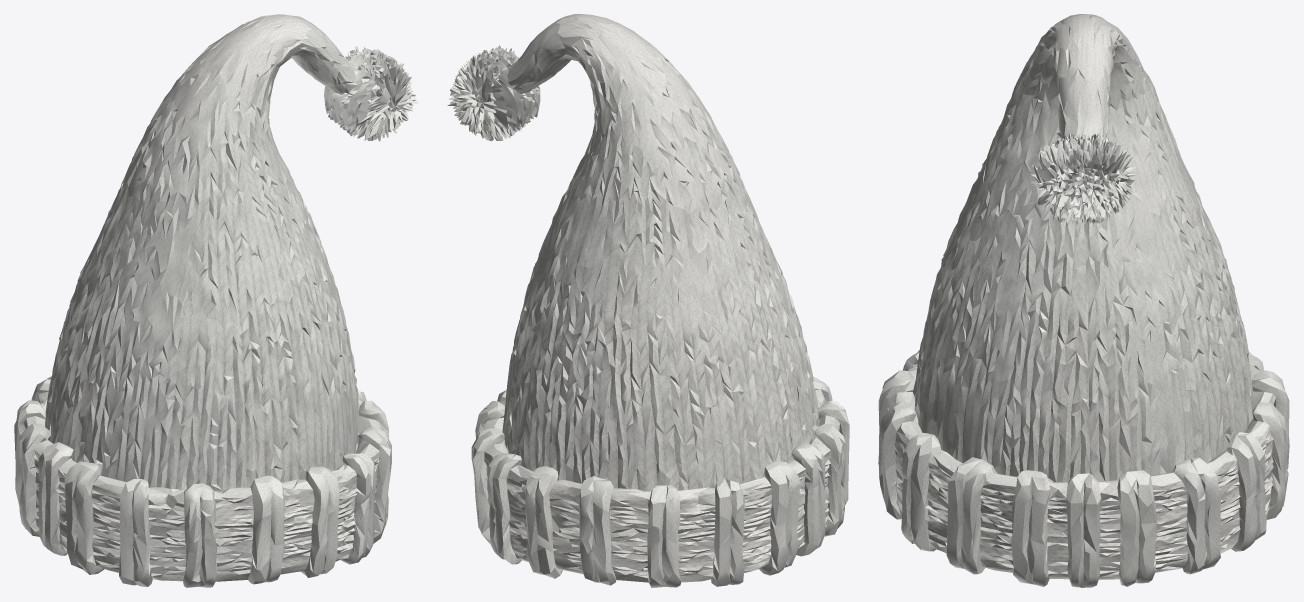
File: xmas_luva.glb
3 views of the same model, side by side, from view 1: azimuth 30°, elevation 25°; view 2: azimuth 150°, elevation 25°; view 3: azimuth 270°, elevation 25° (orthographic). The views are drawn at different scales.
Bounding box in the file's own units: 1.46 × 1.9 × 1.34.
1 material, 1 textured.
